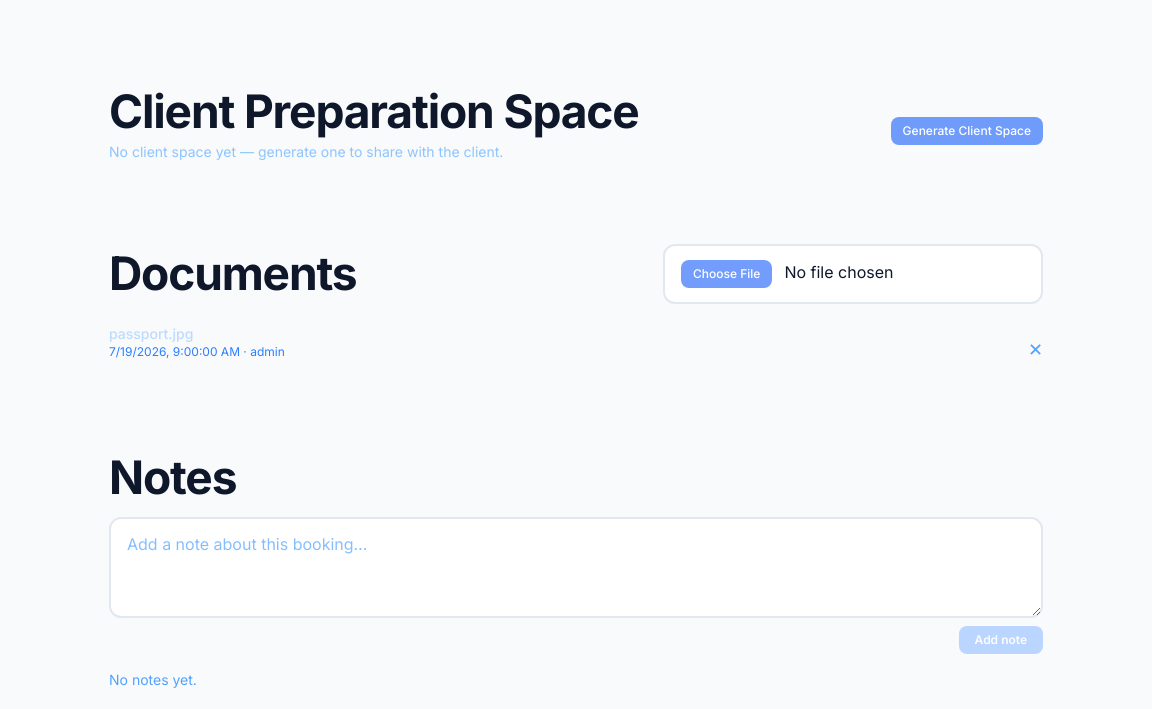
BookingDetailClient › deletes a document: deleteObject + deleteBookingDocument, row removed
(page scrolled)
Check: the link "passport.jpg" is shown, box [109, 325, 194, 342]
Step 1. Click the button titled "Delete document" → (1035, 350), box [1028, 341, 1043, 359]
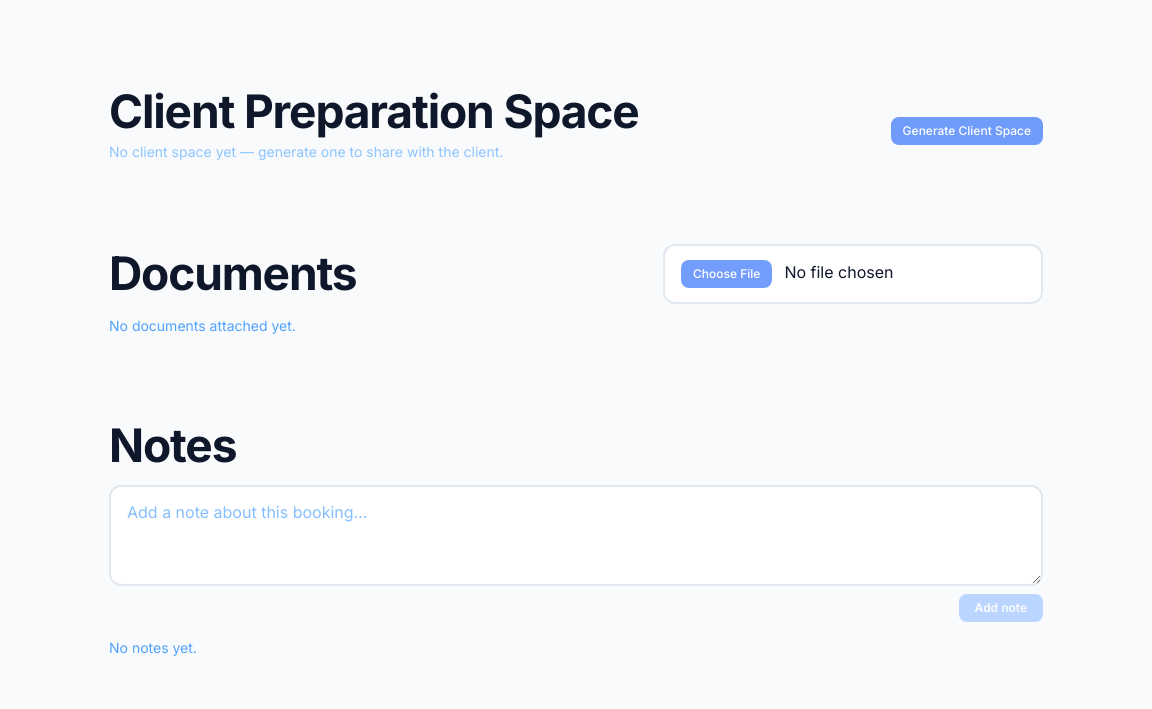
Check: the link "passport.jpg" is gone
